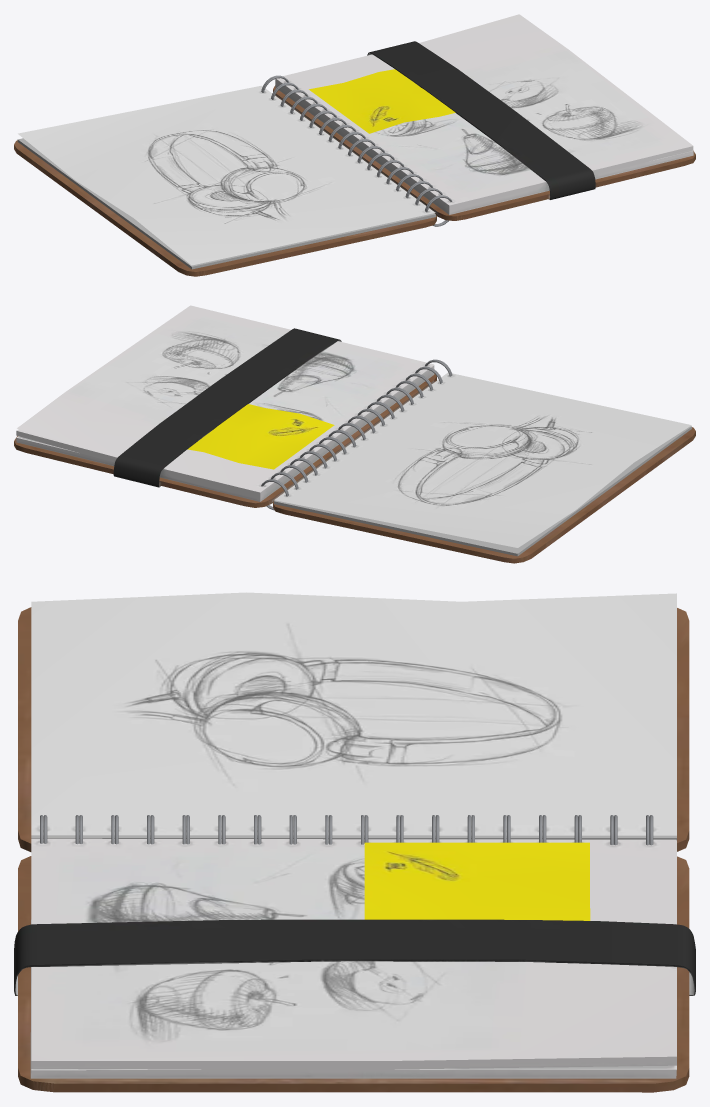
File: notebook-transformed.glb
The picture shows the model from 3 angles, top to bottom: view 1: azimuth 30°, elevation 25°; view 2: azimuth 150°, elevation 25°; view 3: azimuth 270°, elevation 25°; orthographic projection. The views are drawn at different scales.
Visible parts, largest first — view 1: notebook_03_low, notebook_01_low, notebook_02_low, notebook_04_low; view 2: notebook_03_low, notebook_01_low, notebook_02_low, notebook_04_low; view 3: notebook_03_low, notebook_01_low, notebook_02_low, notebook_04_low.
Part boxes in pixels (bbox=[...]): notebook_03_low: bbox=[14, 14, 695, 276]; notebook_01_low: bbox=[261, 41, 595, 226]; notebook_02_low: bbox=[17, 79, 693, 269]; notebook_04_low: bbox=[309, 69, 455, 133]; notebook_03_low: bbox=[14, 305, 695, 563]; notebook_01_low: bbox=[113, 328, 452, 510]; notebook_02_low: bbox=[16, 365, 691, 556]; notebook_04_low: bbox=[187, 404, 334, 469]; notebook_03_low: bbox=[18, 592, 689, 1092]; notebook_01_low: bbox=[14, 815, 695, 995]; notebook_02_low: bbox=[30, 835, 676, 1078]; notebook_04_low: bbox=[364, 842, 590, 920].
Bounding box in the file's own units: 342 × 19.13 × 212.
1 material, 1 textured.
